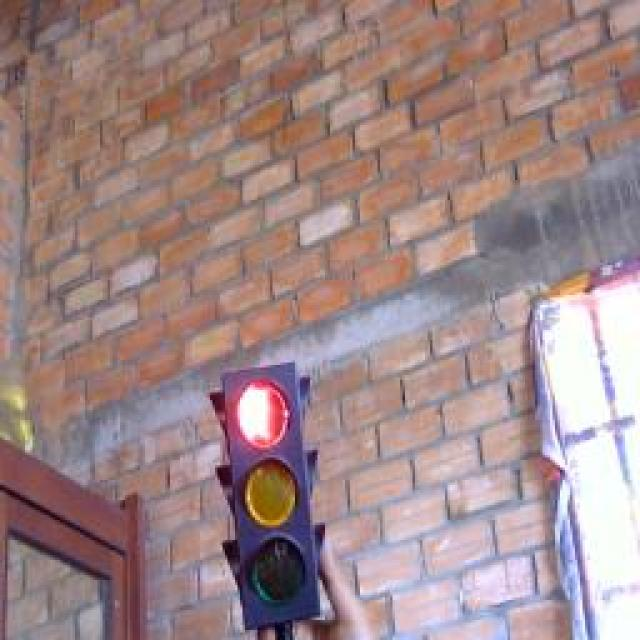-: (229, 371, 299, 451)
